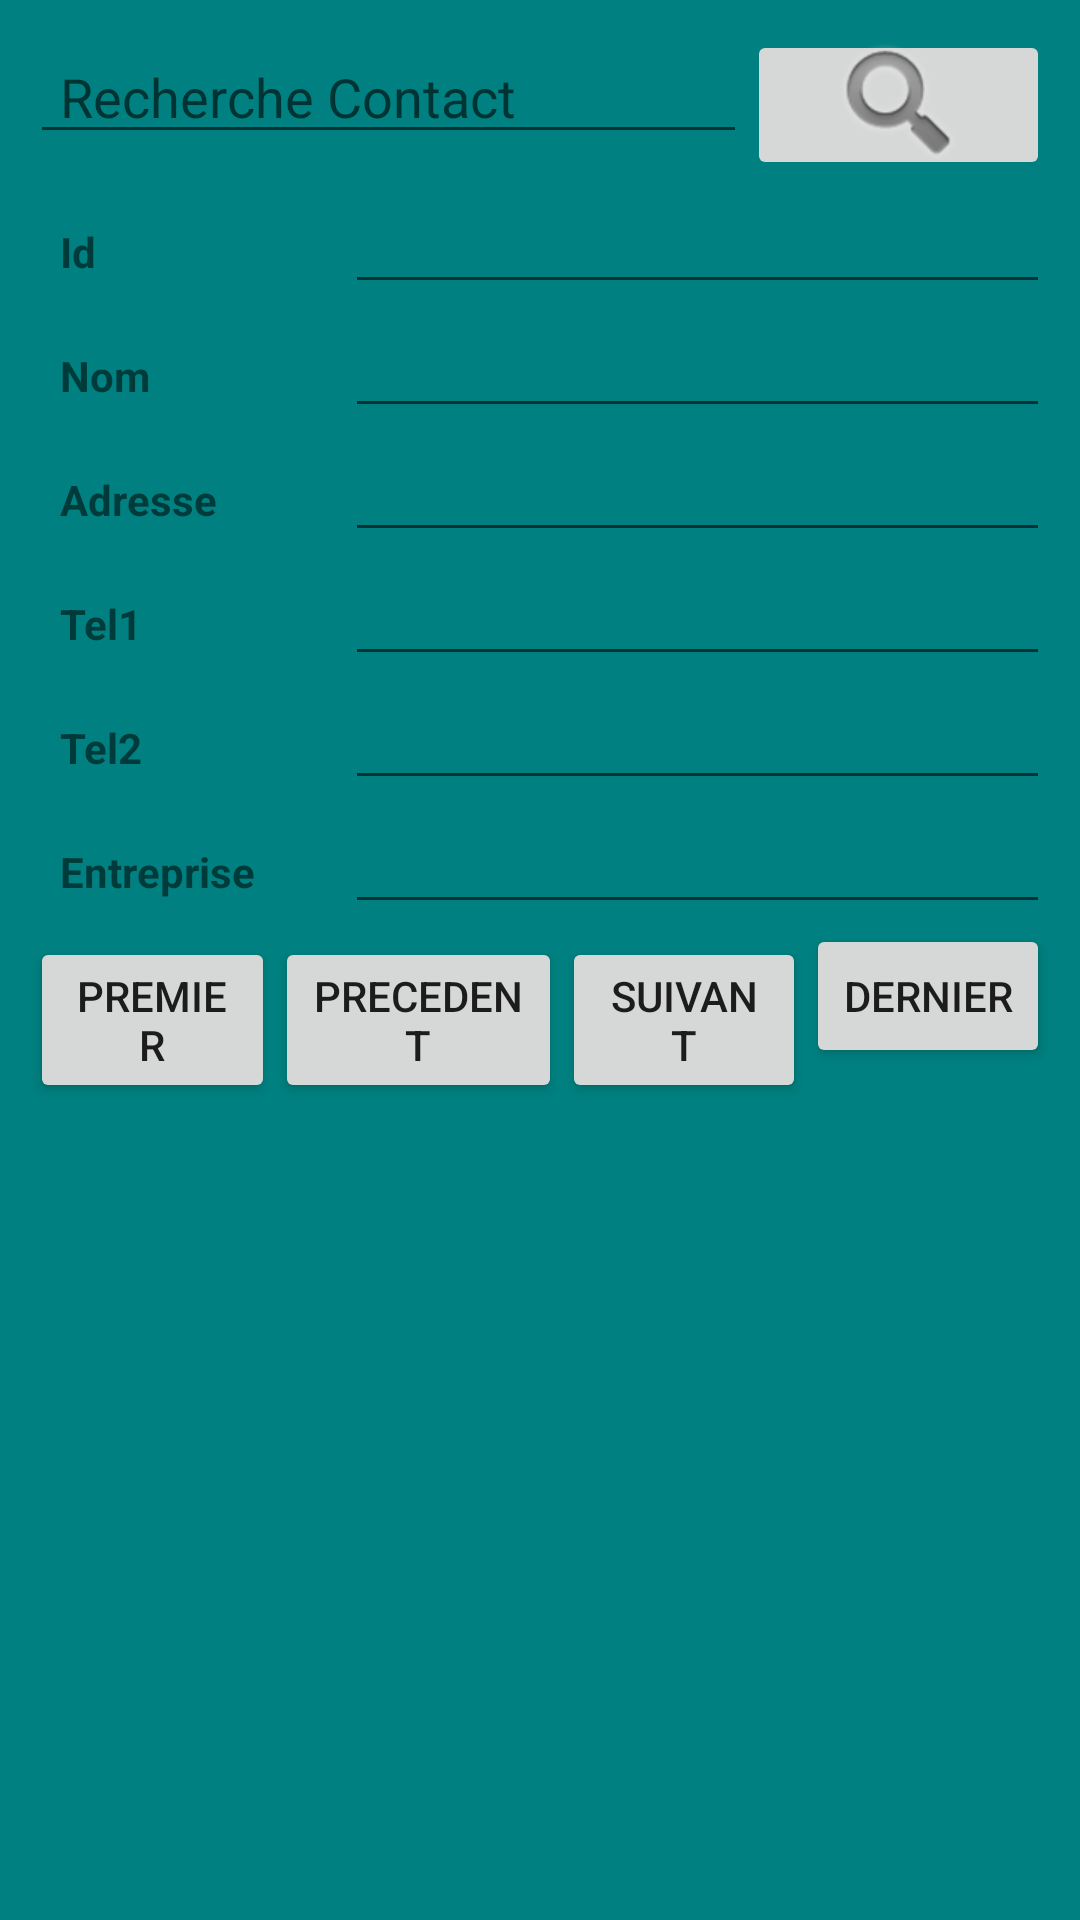

Icon click points for this 1080w x 1920h phone screenshot, format (x=x, y=y):
search category: (x=898, y=104)
